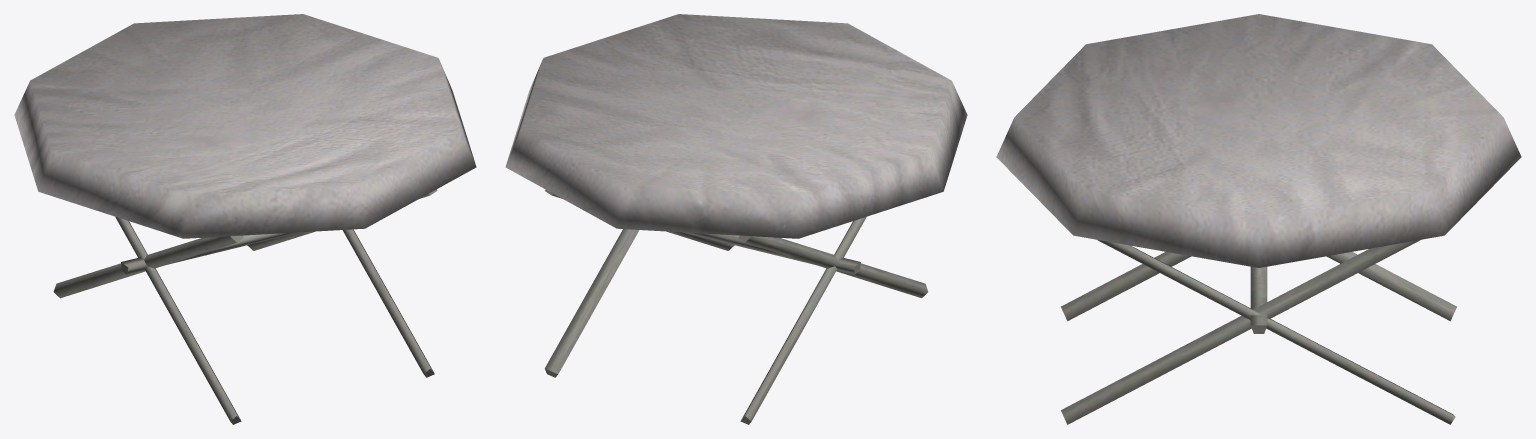
Rendered from eqp_camping_stool_short_l1.fbx.
The picture shows the model from 3 angles, left to right: view 1: azimuth 30°, elevation 25°; view 2: azimuth 150°, elevation 25°; view 3: azimuth 270°, elevation 25°; orthographic projection. The views are drawn at different scales.
Visible parts, largest first — view 1: mesh_node; view 2: mesh_node; view 3: mesh_node.
Boxes of the visible parts, x1=… form: mesh_node: x1=14, y1=14, x2=476, y2=424; mesh_node: x1=505, y1=14, x2=967, y2=424; mesh_node: x1=996, y1=14, x2=1521, y2=424.
Bounding box in the file's own units: 0.5698 × 0.3056 × 0.5698.
1 material, 1 textured.
